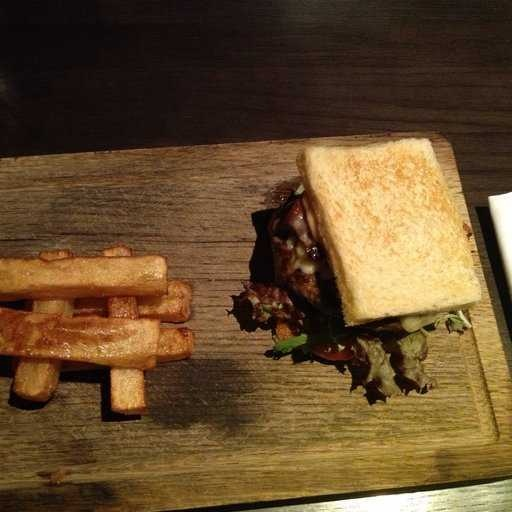hamburger: (235, 133, 493, 402)
